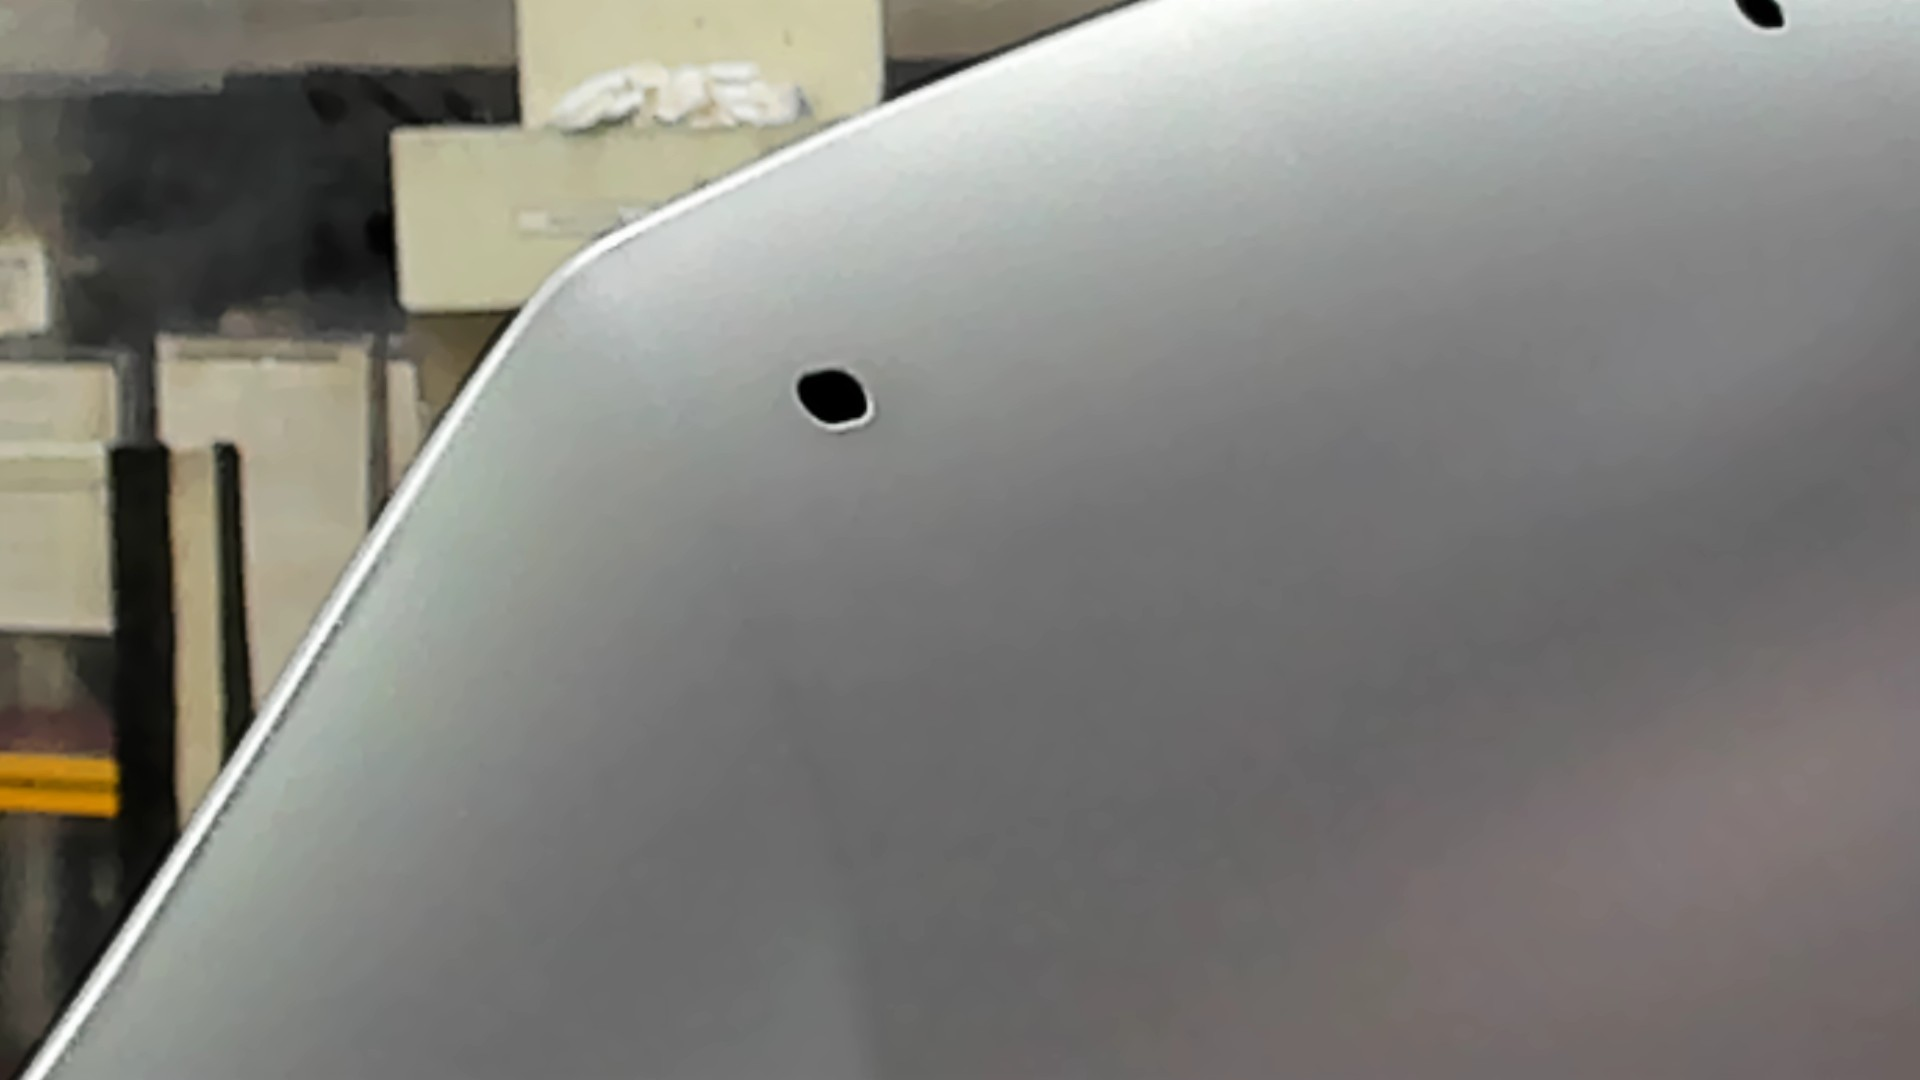amorfo: (787, 359, 886, 440), (1720, 1, 1801, 40)
capo: (963, 113, 1920, 1080)
